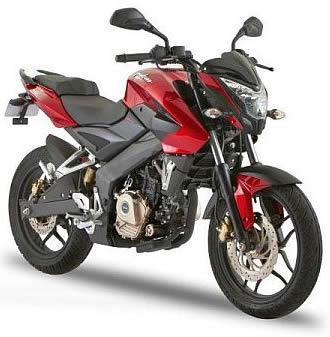motorbike: (4, 7, 321, 320)
